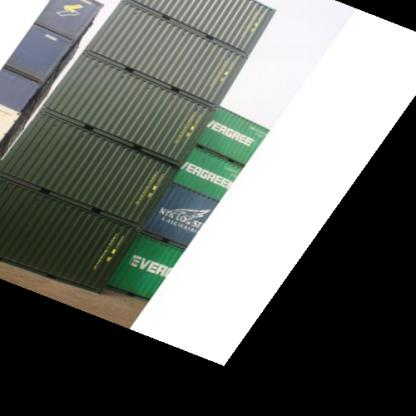Damage: (46, 114, 60, 136), (72, 128, 86, 150)
